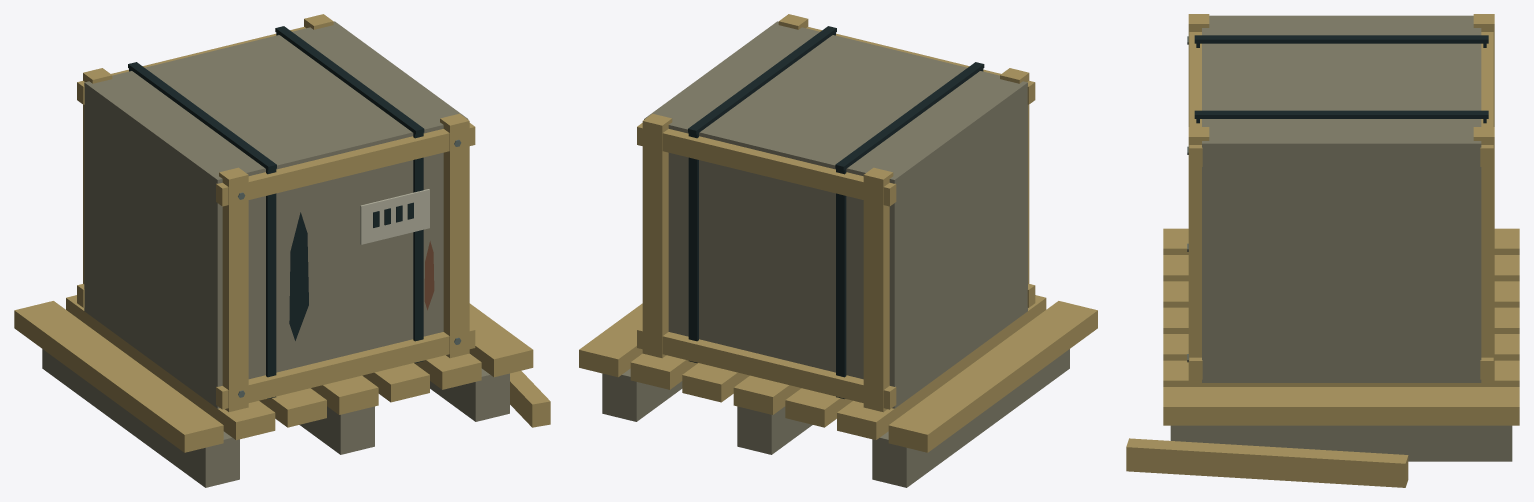
File: v115-yard-dock-cluster.glb
3 renders of one model, left to right at view 1: azimuth 30°, elevation 25°; view 2: azimuth 150°, elevation 25°; view 3: azimuth 270°, elevation 25°, orthographic. The views are drawn at different scales.
Visible parts, largest first — view 1: dock-cluster; view 2: dock-cluster; view 3: dock-cluster.
Boxes of the visible parts, x1,y1,x2,y2 form: dock-cluster: [14, 14, 550, 487]; dock-cluster: [579, 14, 1097, 487]; dock-cluster: [1126, 14, 1519, 487].
Size of the model in its own units: 1.55 by 1.15 by 1.33.
